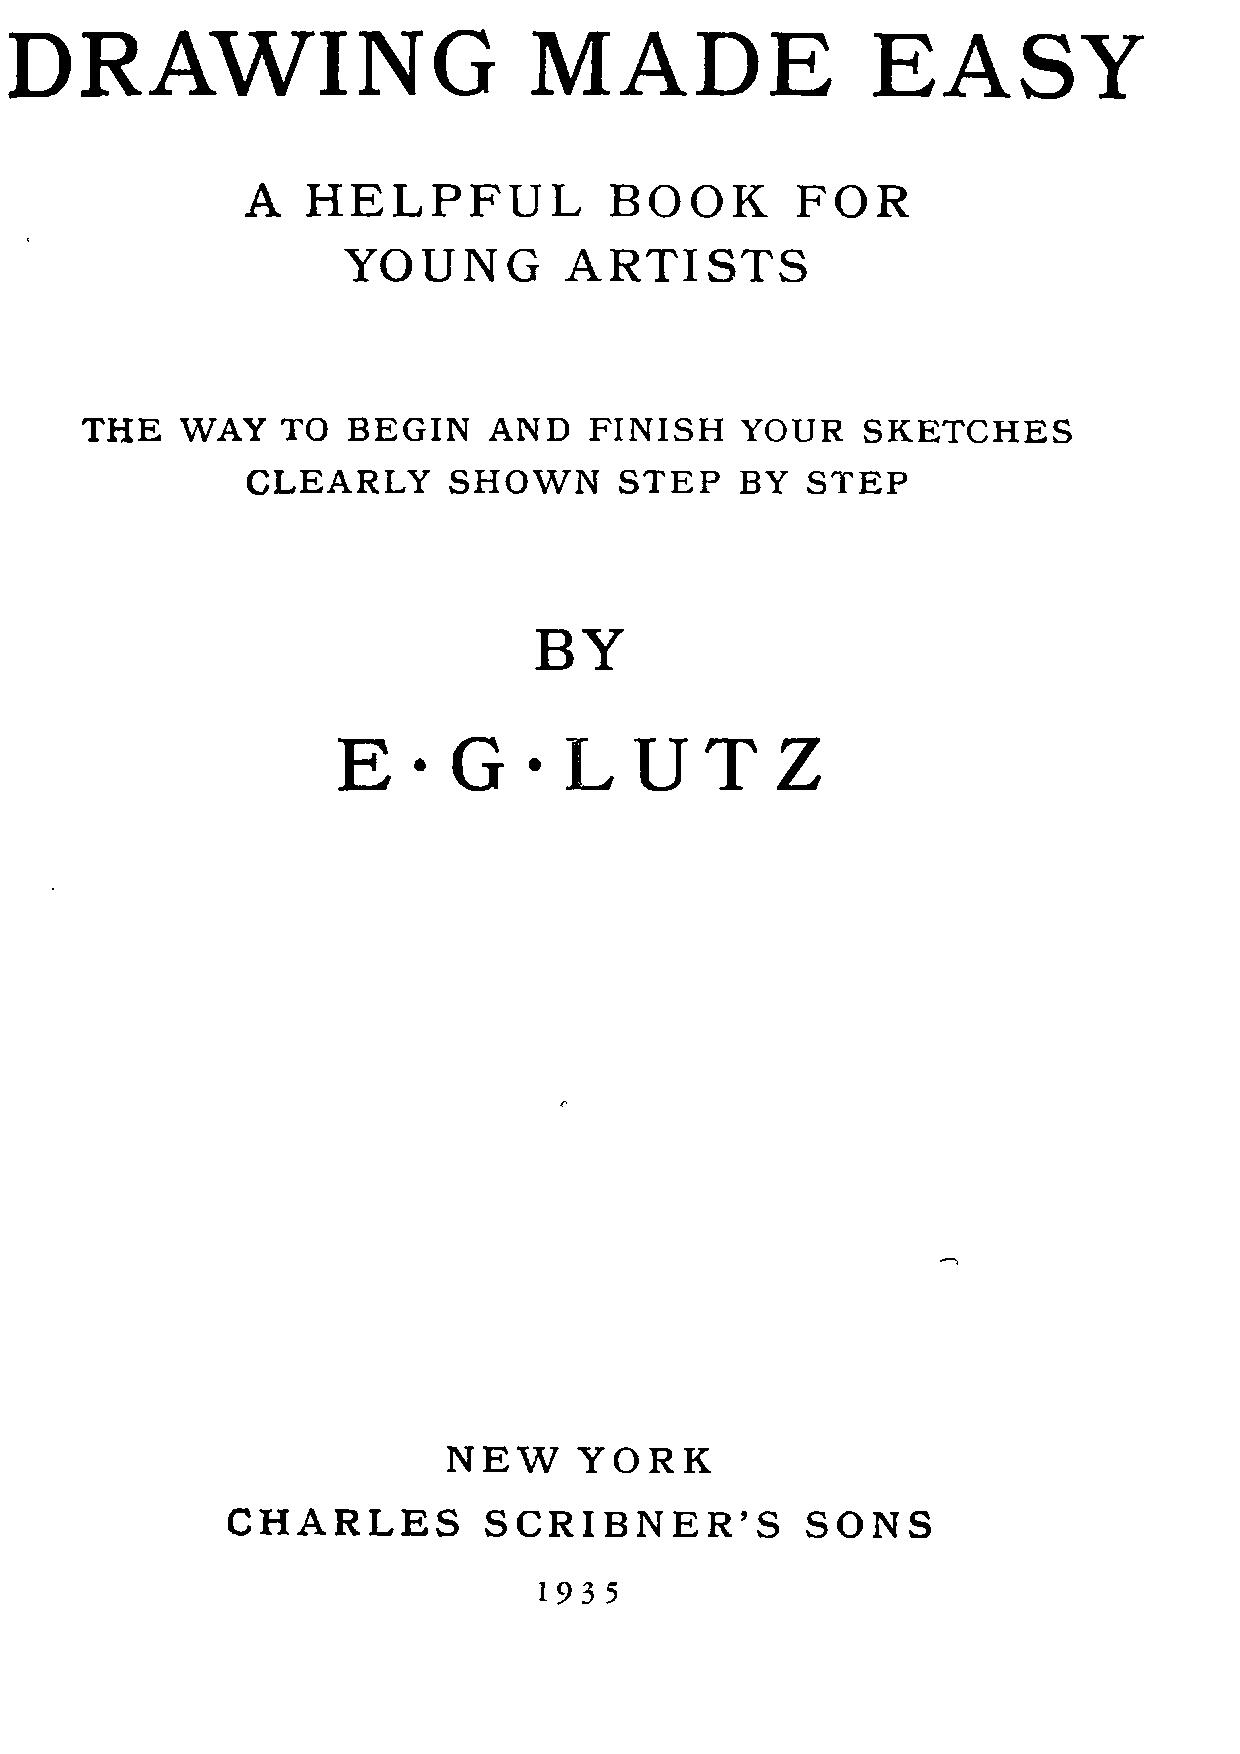author: (331, 624, 823, 798)
title: (0, 28, 1146, 101)
